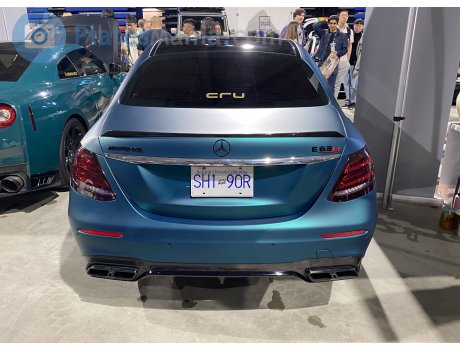licence: (190, 164, 254, 198)
